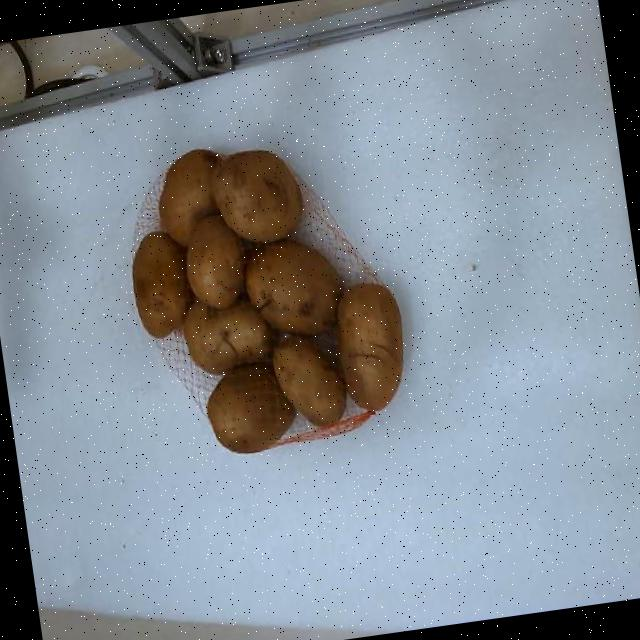potato: (244, 239, 339, 334), (337, 285, 402, 411), (212, 151, 301, 242), (206, 364, 295, 453), (271, 337, 346, 426), (183, 300, 272, 374), (132, 232, 192, 338), (158, 149, 217, 245), (187, 215, 242, 309)
